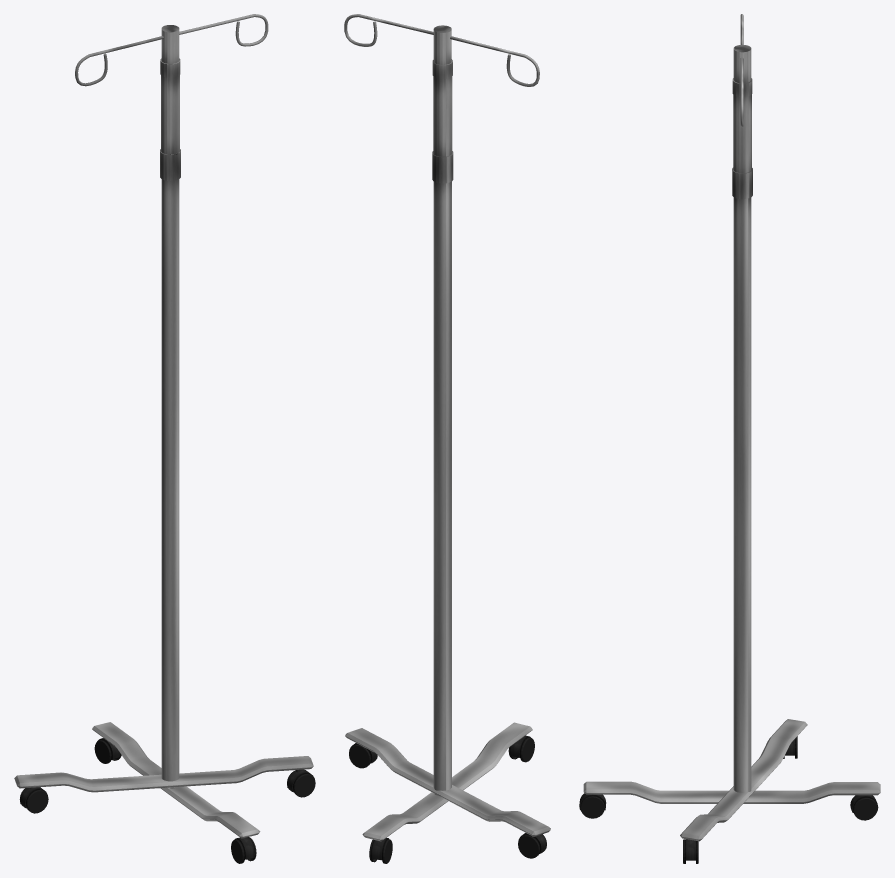
The model's file is iv_stand.glb.
3 views of the same model, side by side, from view 1: azimuth 30°, elevation 25°; view 2: azimuth 150°, elevation 25°; view 3: azimuth 270°, elevation 25° (orthographic). The views are drawn at different scales.
Parts seen in each view (by area): view 1: Cylinder001, Wheel 004, Wheel 002; view 2: Cylinder001, Wheel 002, Wheel 1, Wheel 004, Wheel 003; view 3: Cylinder001, Wheel 003.
Boxes of the visible parts, x1,y1,x2,y2 form: Cylinder001: (14,14,313,838); Wheel 004: (287,769,315,797); Wheel 002: (19,787,48,813); Cylinder001: (344,14,550,841); Wheel 002: (518,833,546,858); Wheel 1: (508,735,534,762); Wheel 004: (349,743,377,768); Wheel 003: (369,838,392,863); Cylinder001: (583,14,880,841); Wheel 003: (850,795,878,820).
Size of the model in its own units: 6250 by 18728 by 6645.
Materials: 2 (2 with a texture image).
